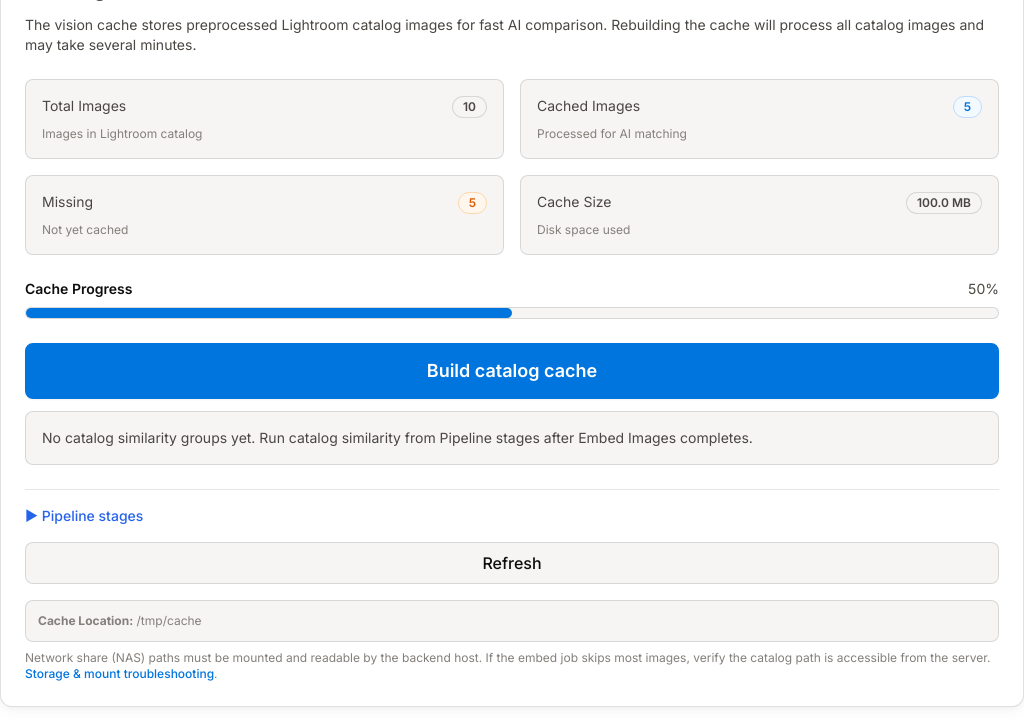
Test: CatalogCacheTab › renders failed badge variant when last run failed
Click the button "▶ Pipeline stages" at (84,516), box [25,506,143,526]
(page scrolled)
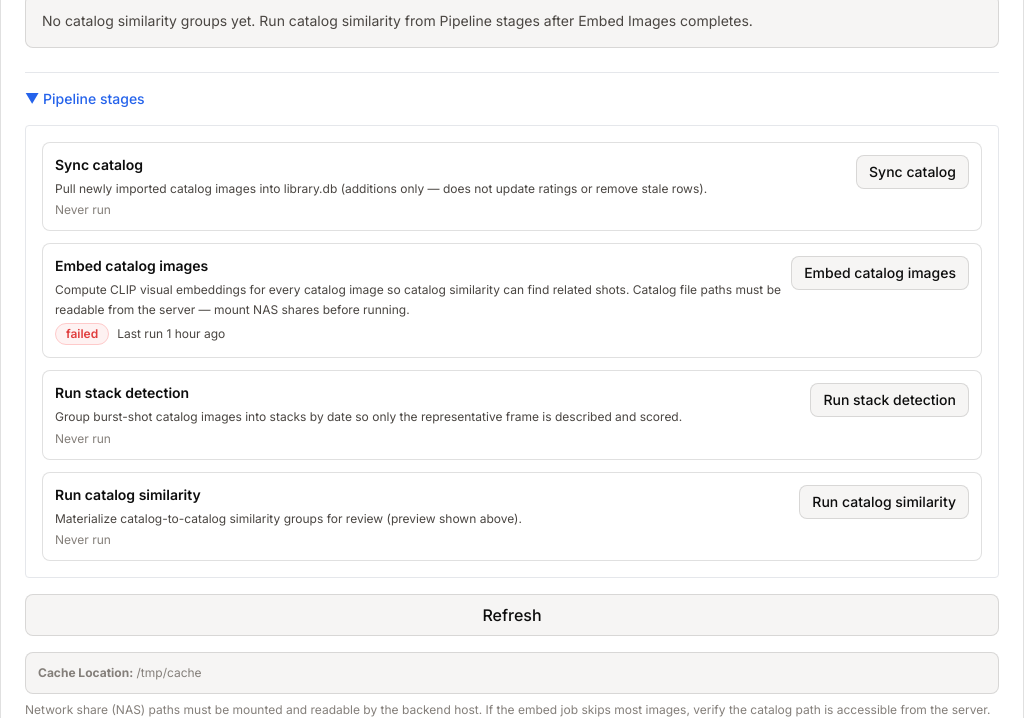
Expected: the button "Embed catalog images" is shown, [791,256,969,290]
Expected: the text "failed" is shown, [55,323,109,345]
Expected: the text "Last run 1 hour ago" is shown, [117,326,225,342]
